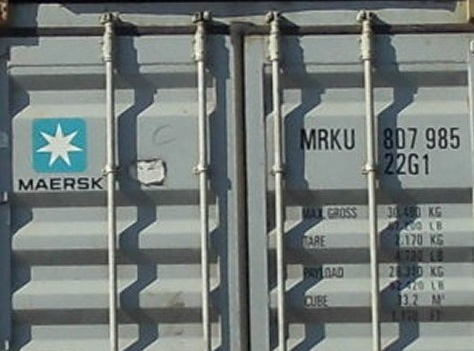container_door: (2, 6, 472, 349)
